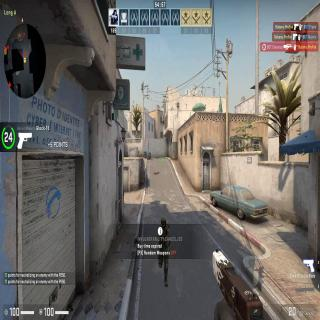CT-Body: (158, 212, 169, 280)
CT-Head: (160, 216, 166, 225)
